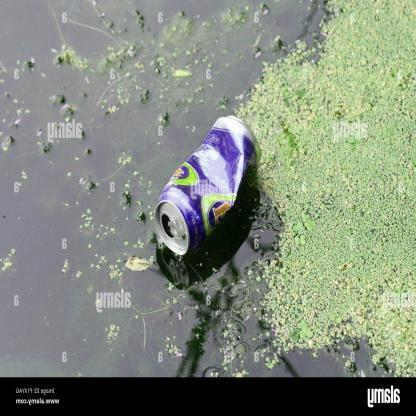Metal: (153, 113, 256, 255)
